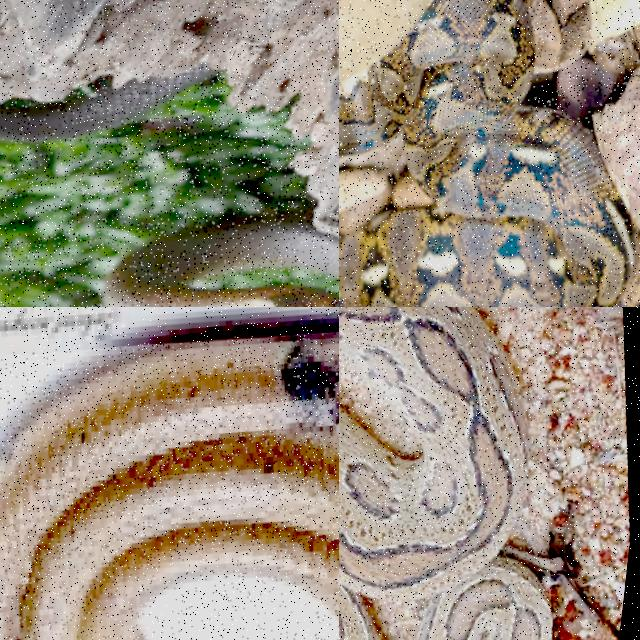Calliophis maculiceps: (0, 333, 338, 639)
Daboia siamensis: (339, 307, 550, 639)
Malayopython reticulatus: (339, 0, 639, 306)
Naja kaouthia: (103, 217, 338, 306)
snake: (0, 333, 338, 639), (339, 0, 639, 306), (339, 307, 550, 639), (103, 217, 338, 306)
